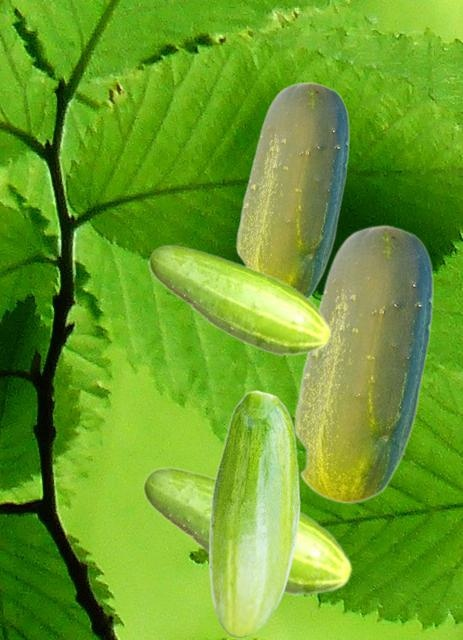cucumber: (293, 224, 432, 503), (142, 466, 352, 596), (235, 81, 348, 298), (208, 390, 299, 637), (148, 244, 331, 356)
